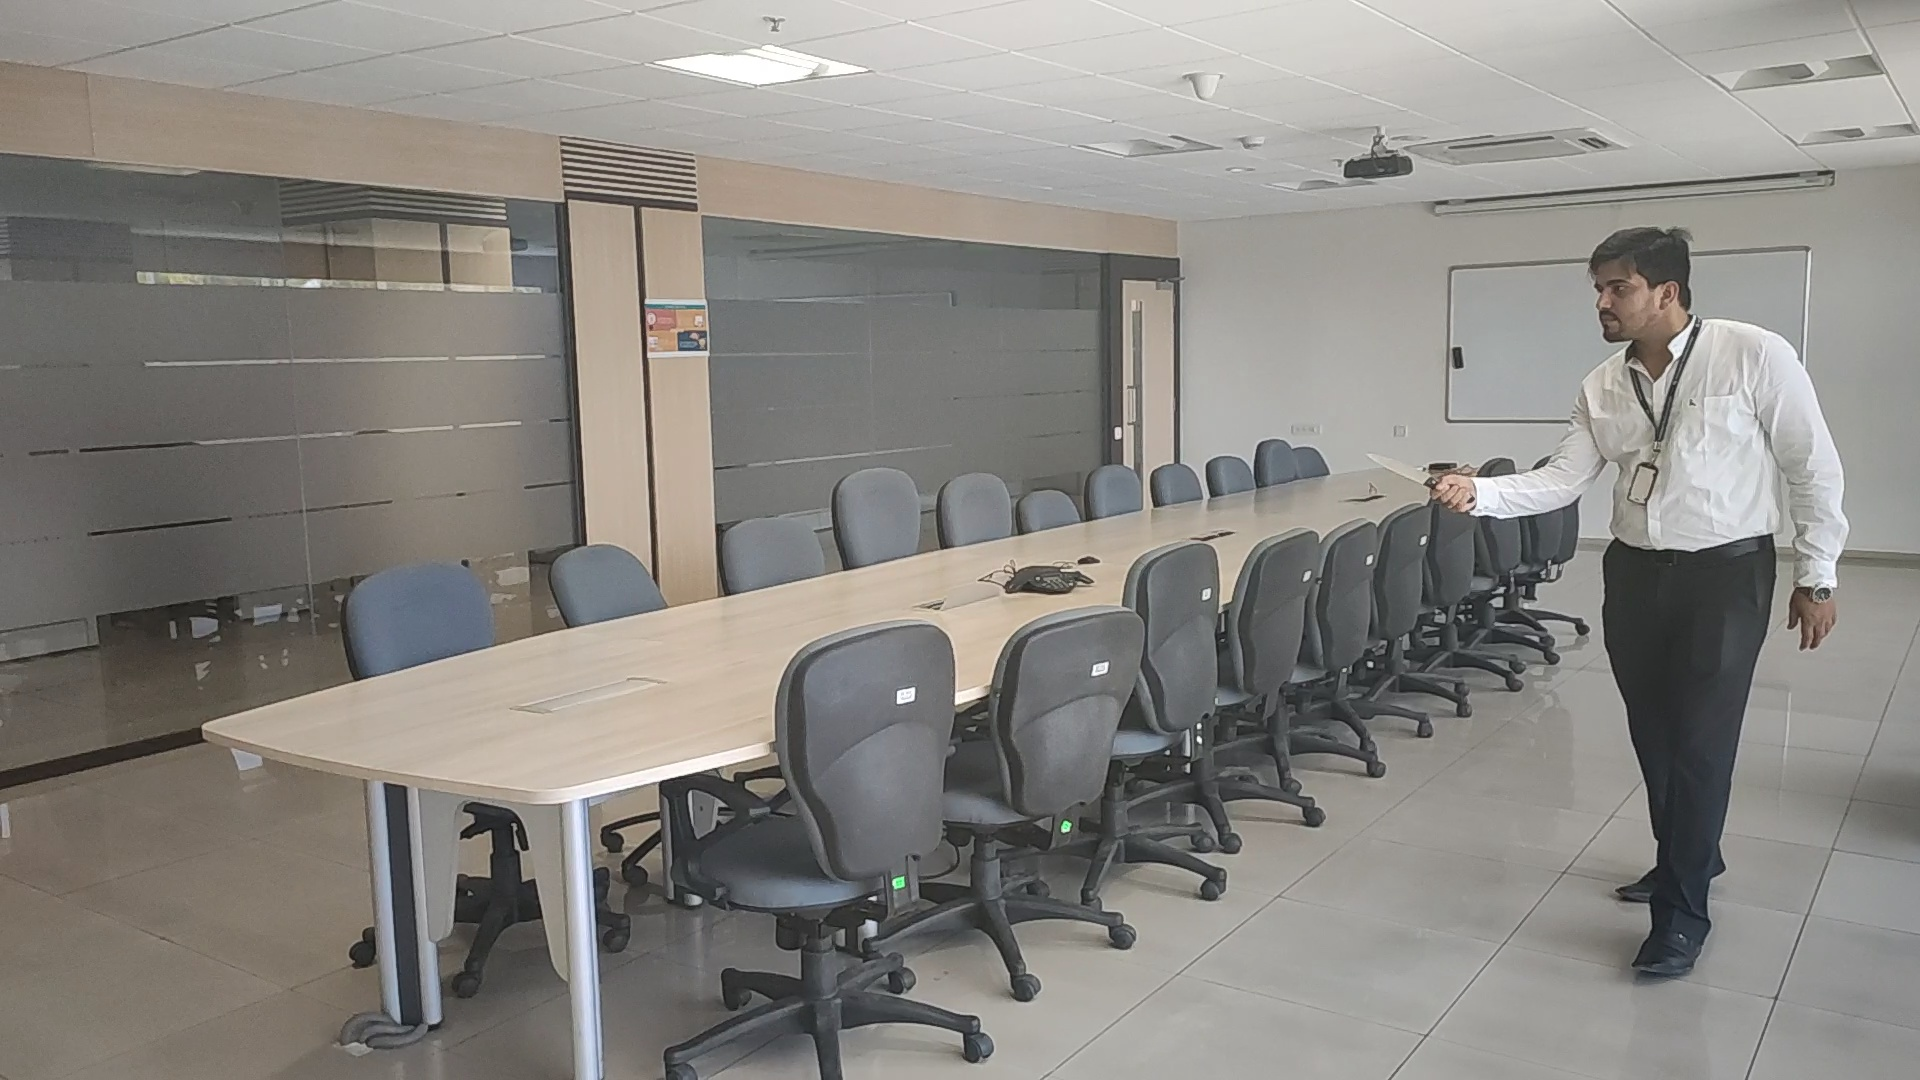knife: (1364, 450, 1432, 488)
